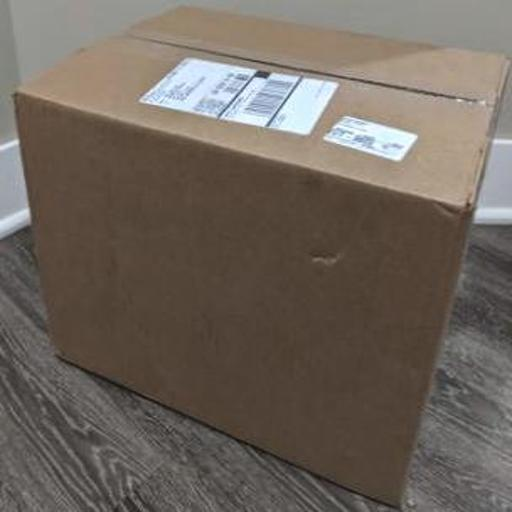Other: (15, 4, 509, 503)
